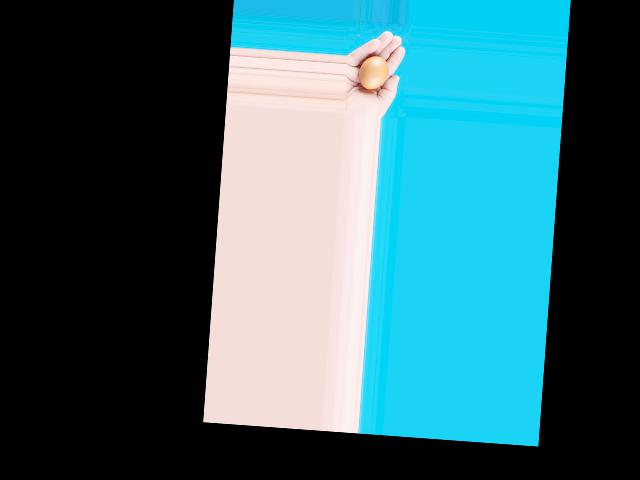egg: (358, 54, 389, 90)
